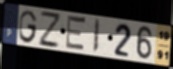2: (112, 22, 134, 61)
6: (136, 25, 154, 62)
E: (64, 13, 88, 54)
G: (18, 9, 39, 45)
I: (92, 19, 102, 56)
Z: (38, 10, 61, 50)
